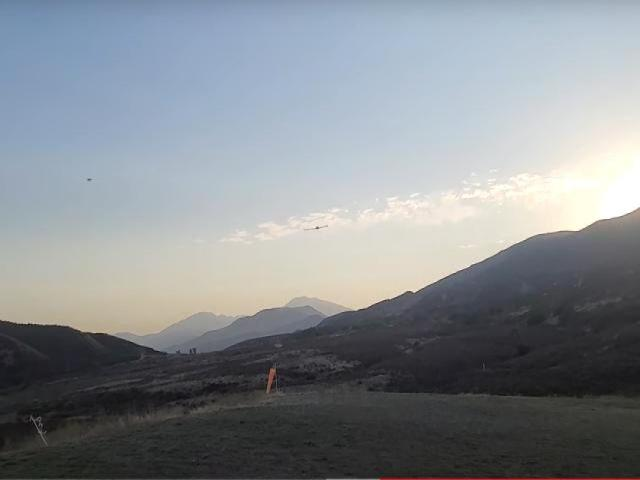iha: (305, 215, 330, 234)
